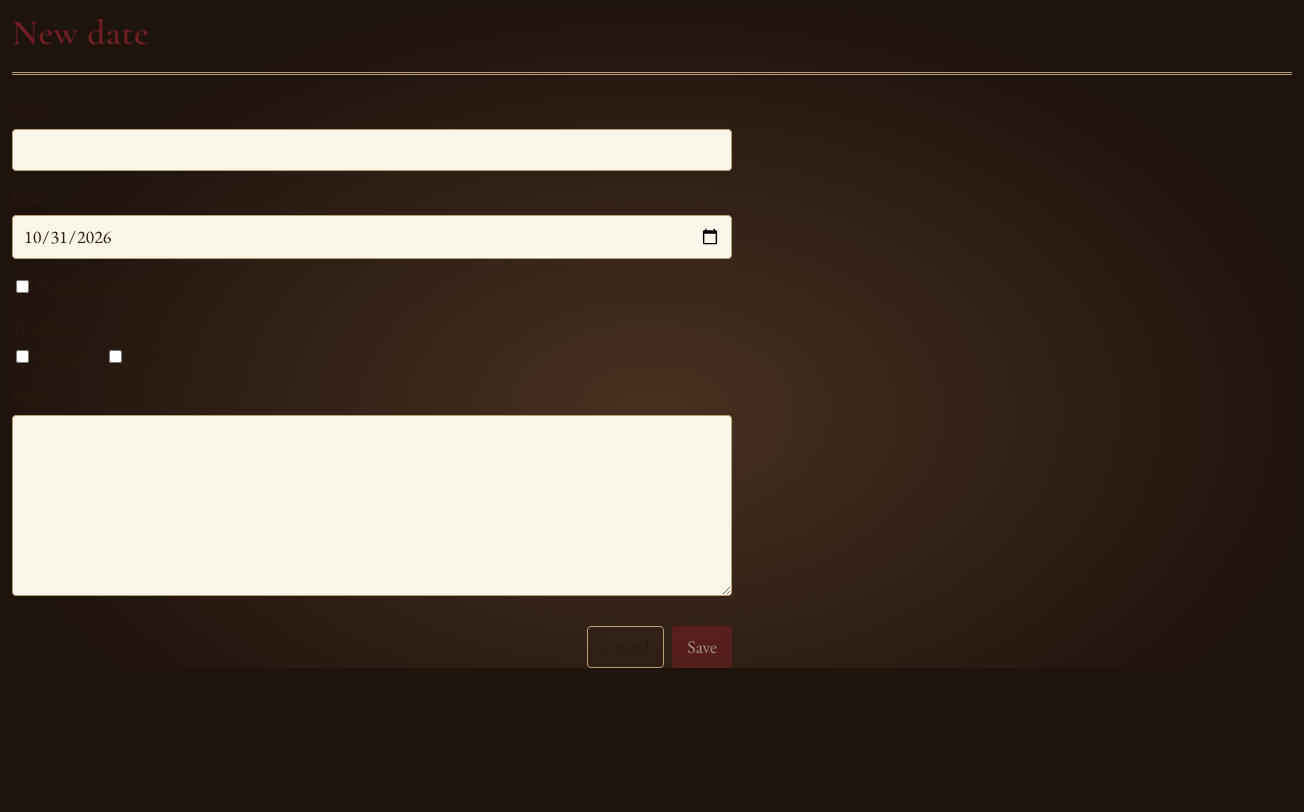
Scenario: Own date form › adds a date with the day from the link, sends the exact body and opens its page
Expected: the heading "New date" is shown, x1=12 y1=12 x2=149 y2=54
Expected: the date field labelled "Date" holds "2026-10-31", x1=12 y1=215 x2=732 y2=259
Type "Ancestor night" into the field labelled "Title" at coordinates (372, 150), box x1=12 y1=129 x2=732 y2=171
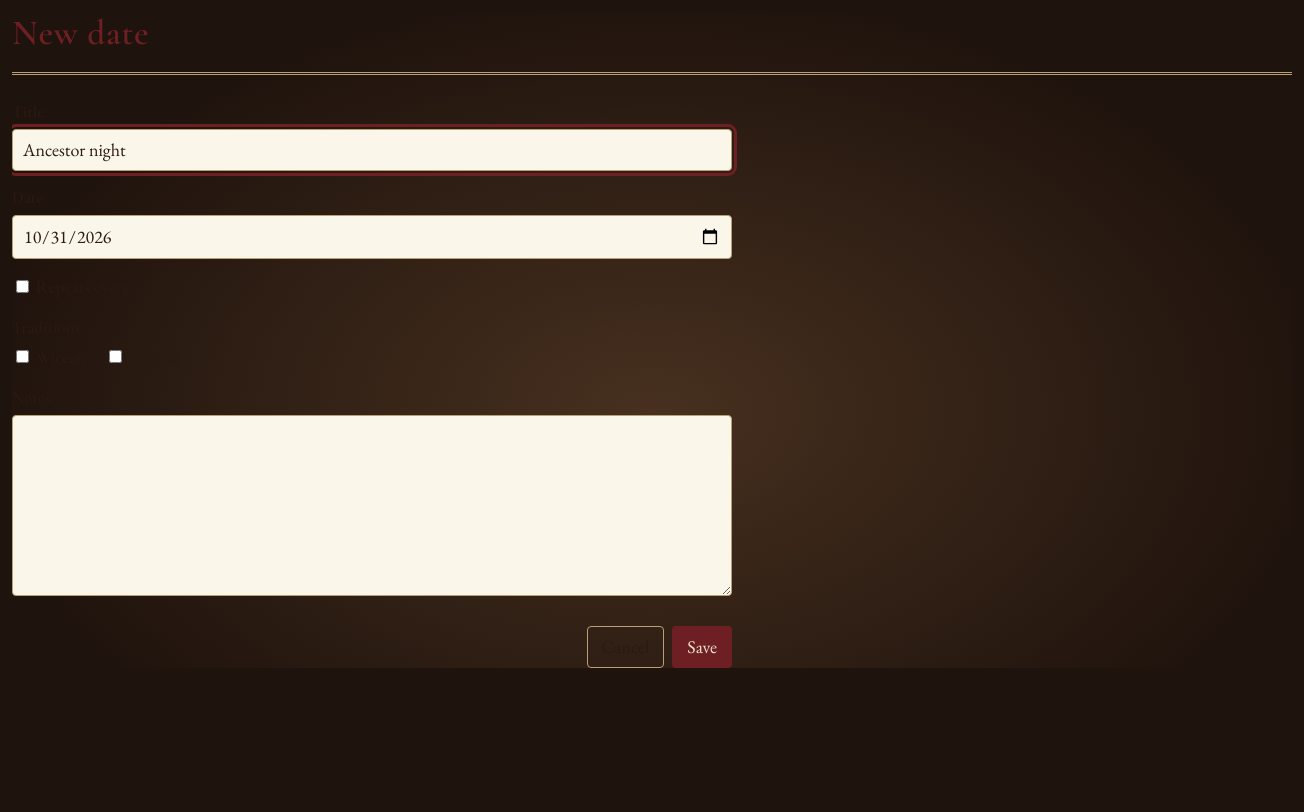
Click the checkbox labelled "Repeats every year" at coordinates (22, 286), box x1=16 y1=280 x2=29 y2=293
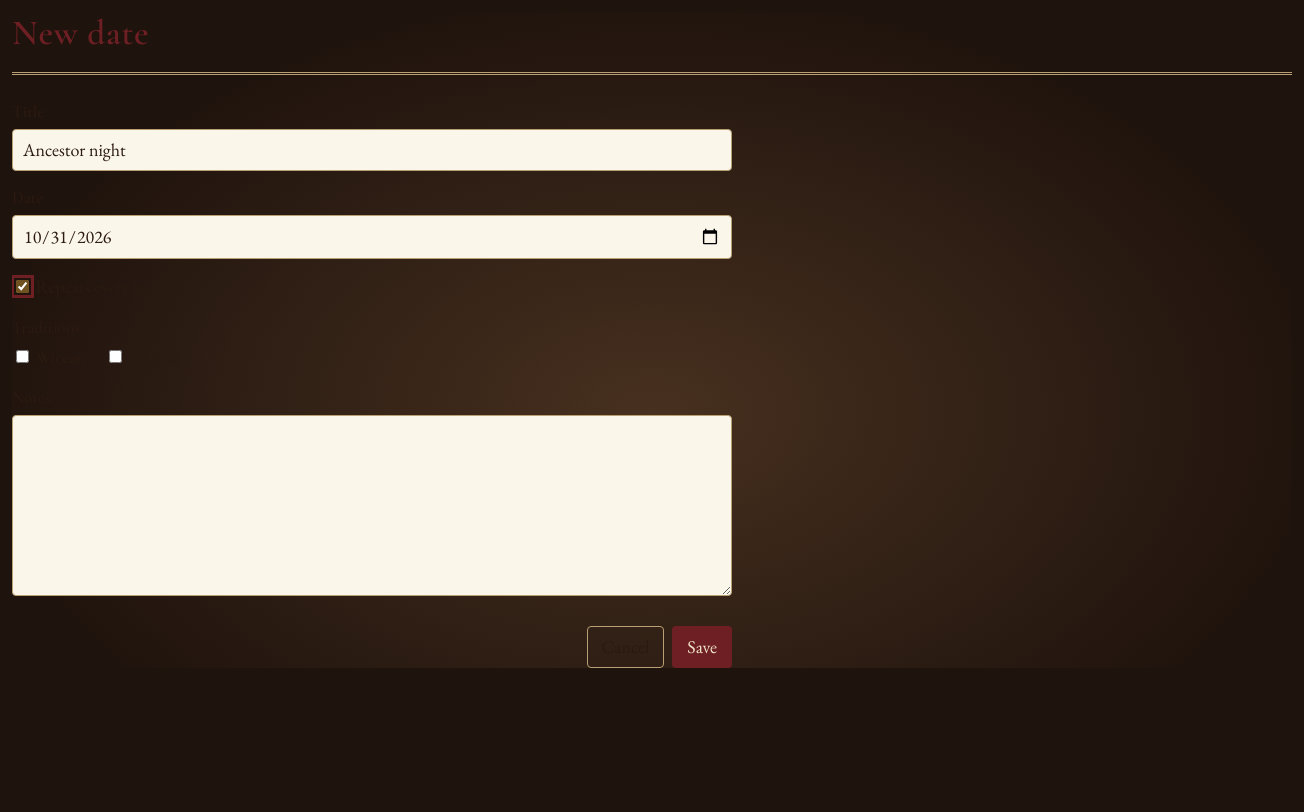
Click the checkbox labelled "Eclectic" at coordinates (116, 356), box x1=109 y1=350 x2=122 y2=363
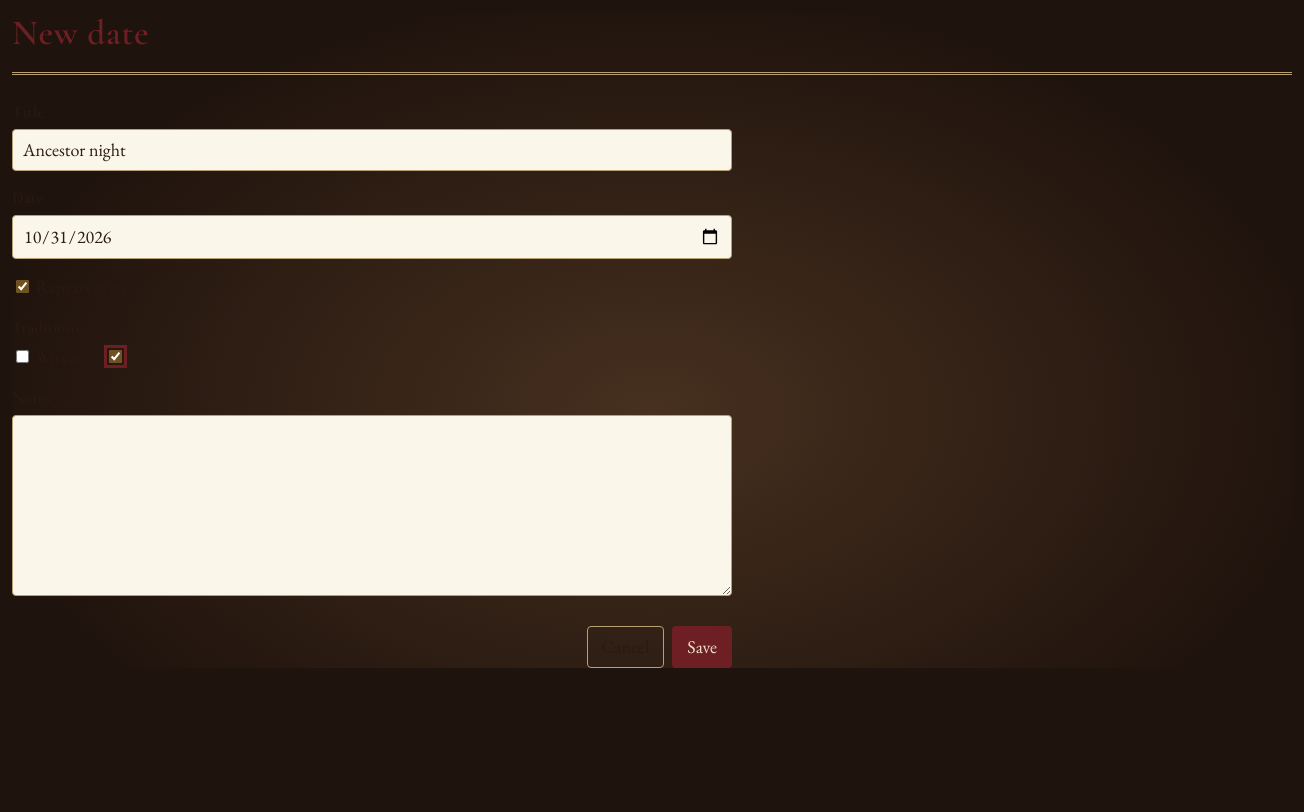
Type "Set a plate." into the text box labelled "Notes" at coordinates (372, 505), box x1=12 y1=415 x2=732 y2=596
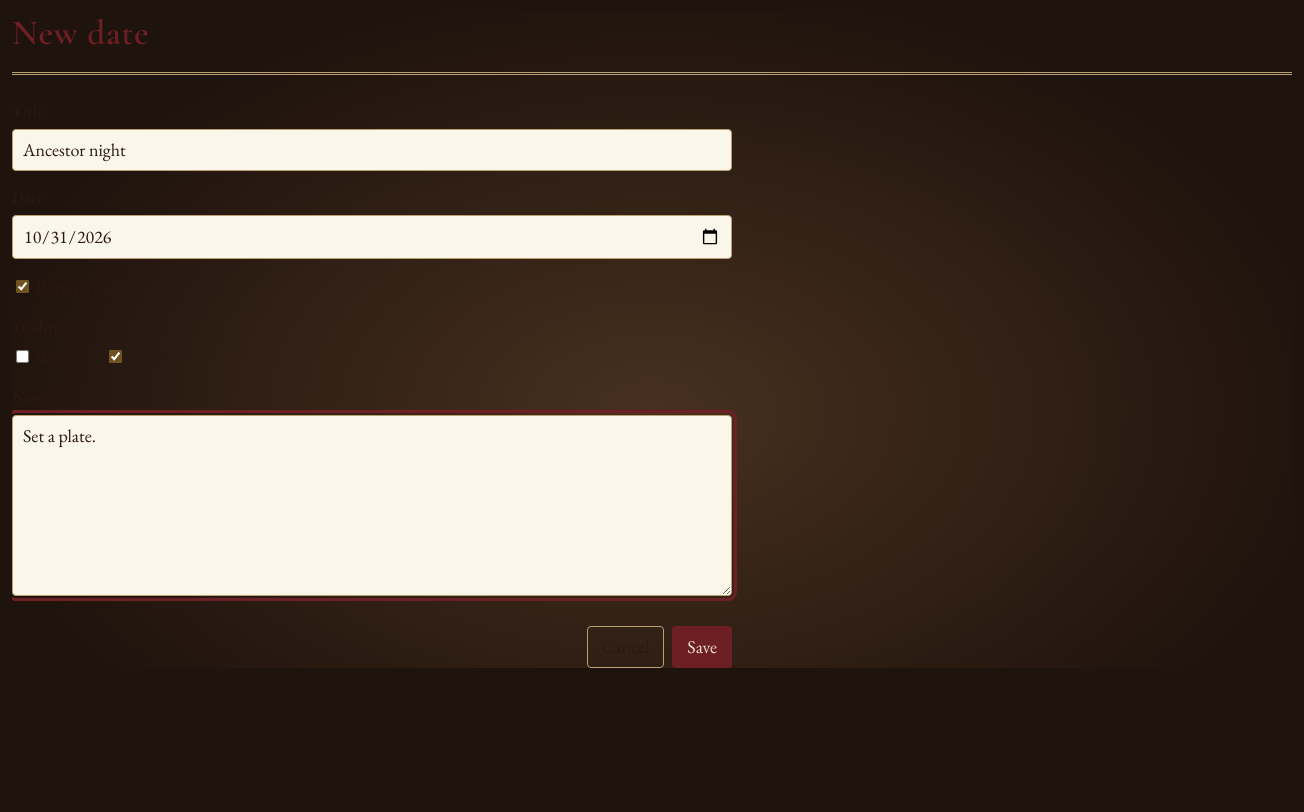
Click the button "Save" at coordinates (702, 647), box x1=672 y1=626 x2=732 y2=668
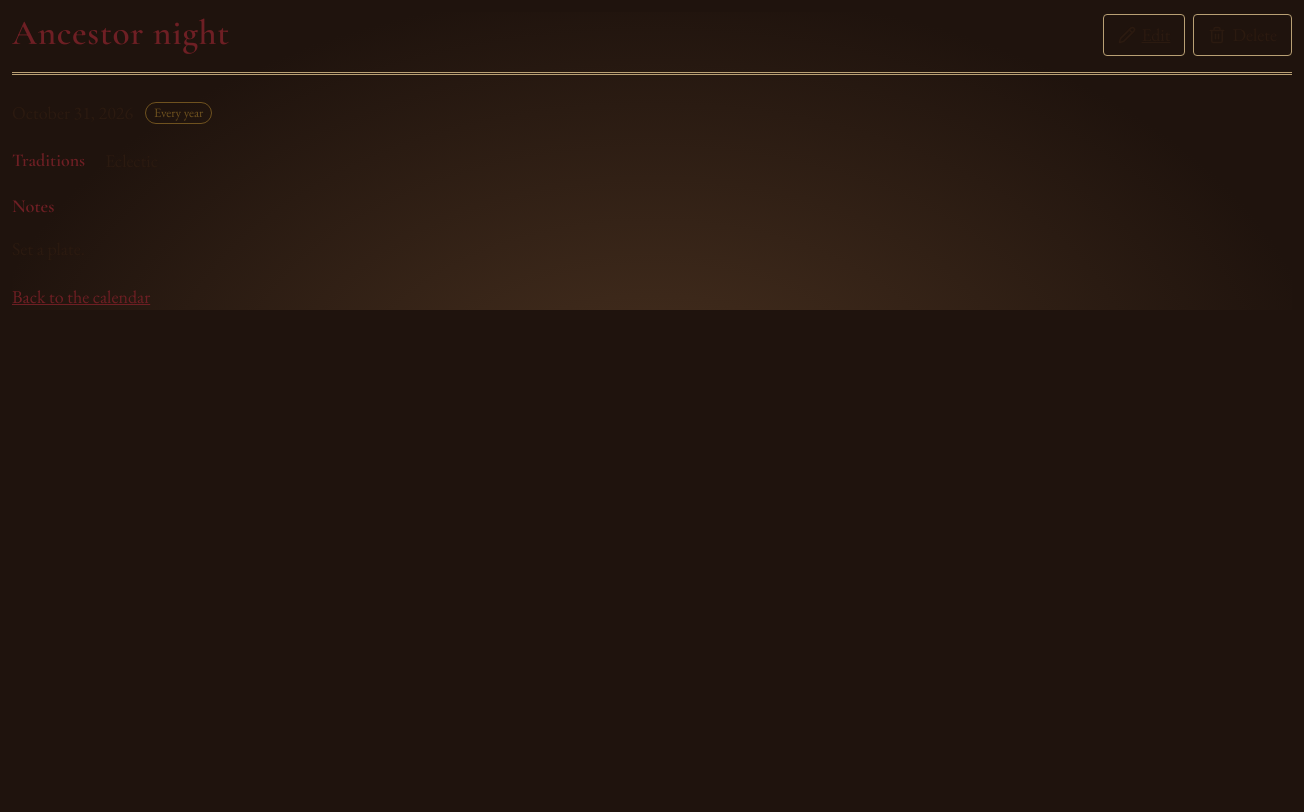
Now the heading "Ancestor night" is shown, box x1=12 y1=12 x2=230 y2=54
